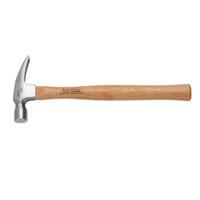hammer: (10, 53, 193, 123)
